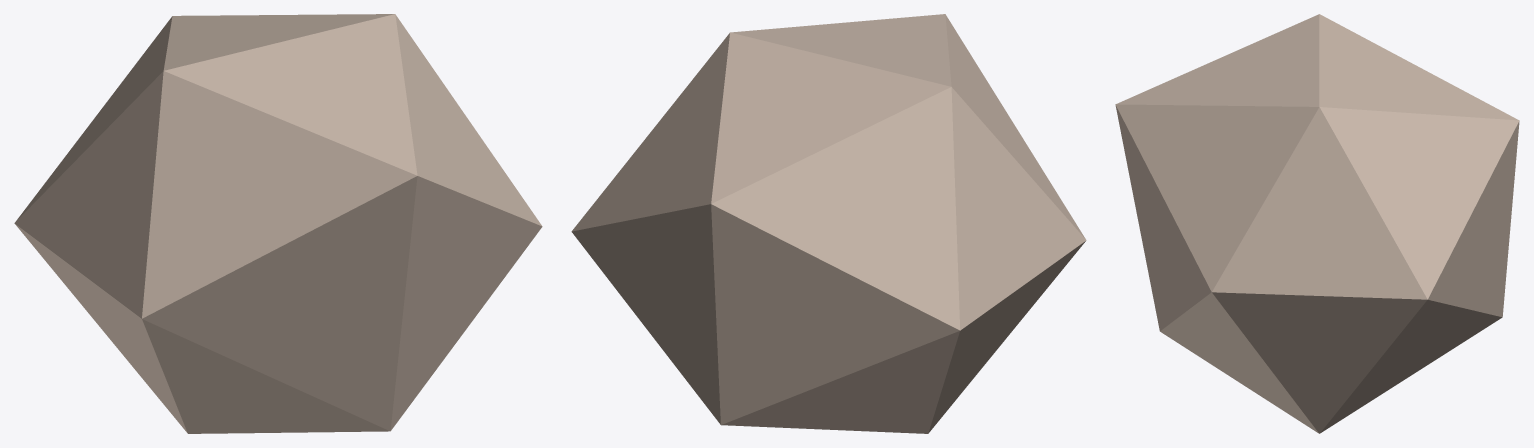
File: asteroid.glb
3 views of the same model, side by side, from view 1: azimuth 30°, elevation 25°; view 2: azimuth 150°, elevation 25°; view 3: azimuth 270°, elevation 25° (orthographic). The views are drawn at different scales.
Parts seen in each view (by area): view 1: Asteroid; view 2: Asteroid; view 3: Asteroid.
Part boxes in pixels (x1=…): Asteroid: x1=14, y1=14, x2=542, y2=433; Asteroid: x1=571, y1=14, x2=1086, y2=433; Asteroid: x1=1115, y1=14, x2=1519, y2=433.
Bounding box in the file's own units: 0.9304 × 0.8306 × 0.955.
